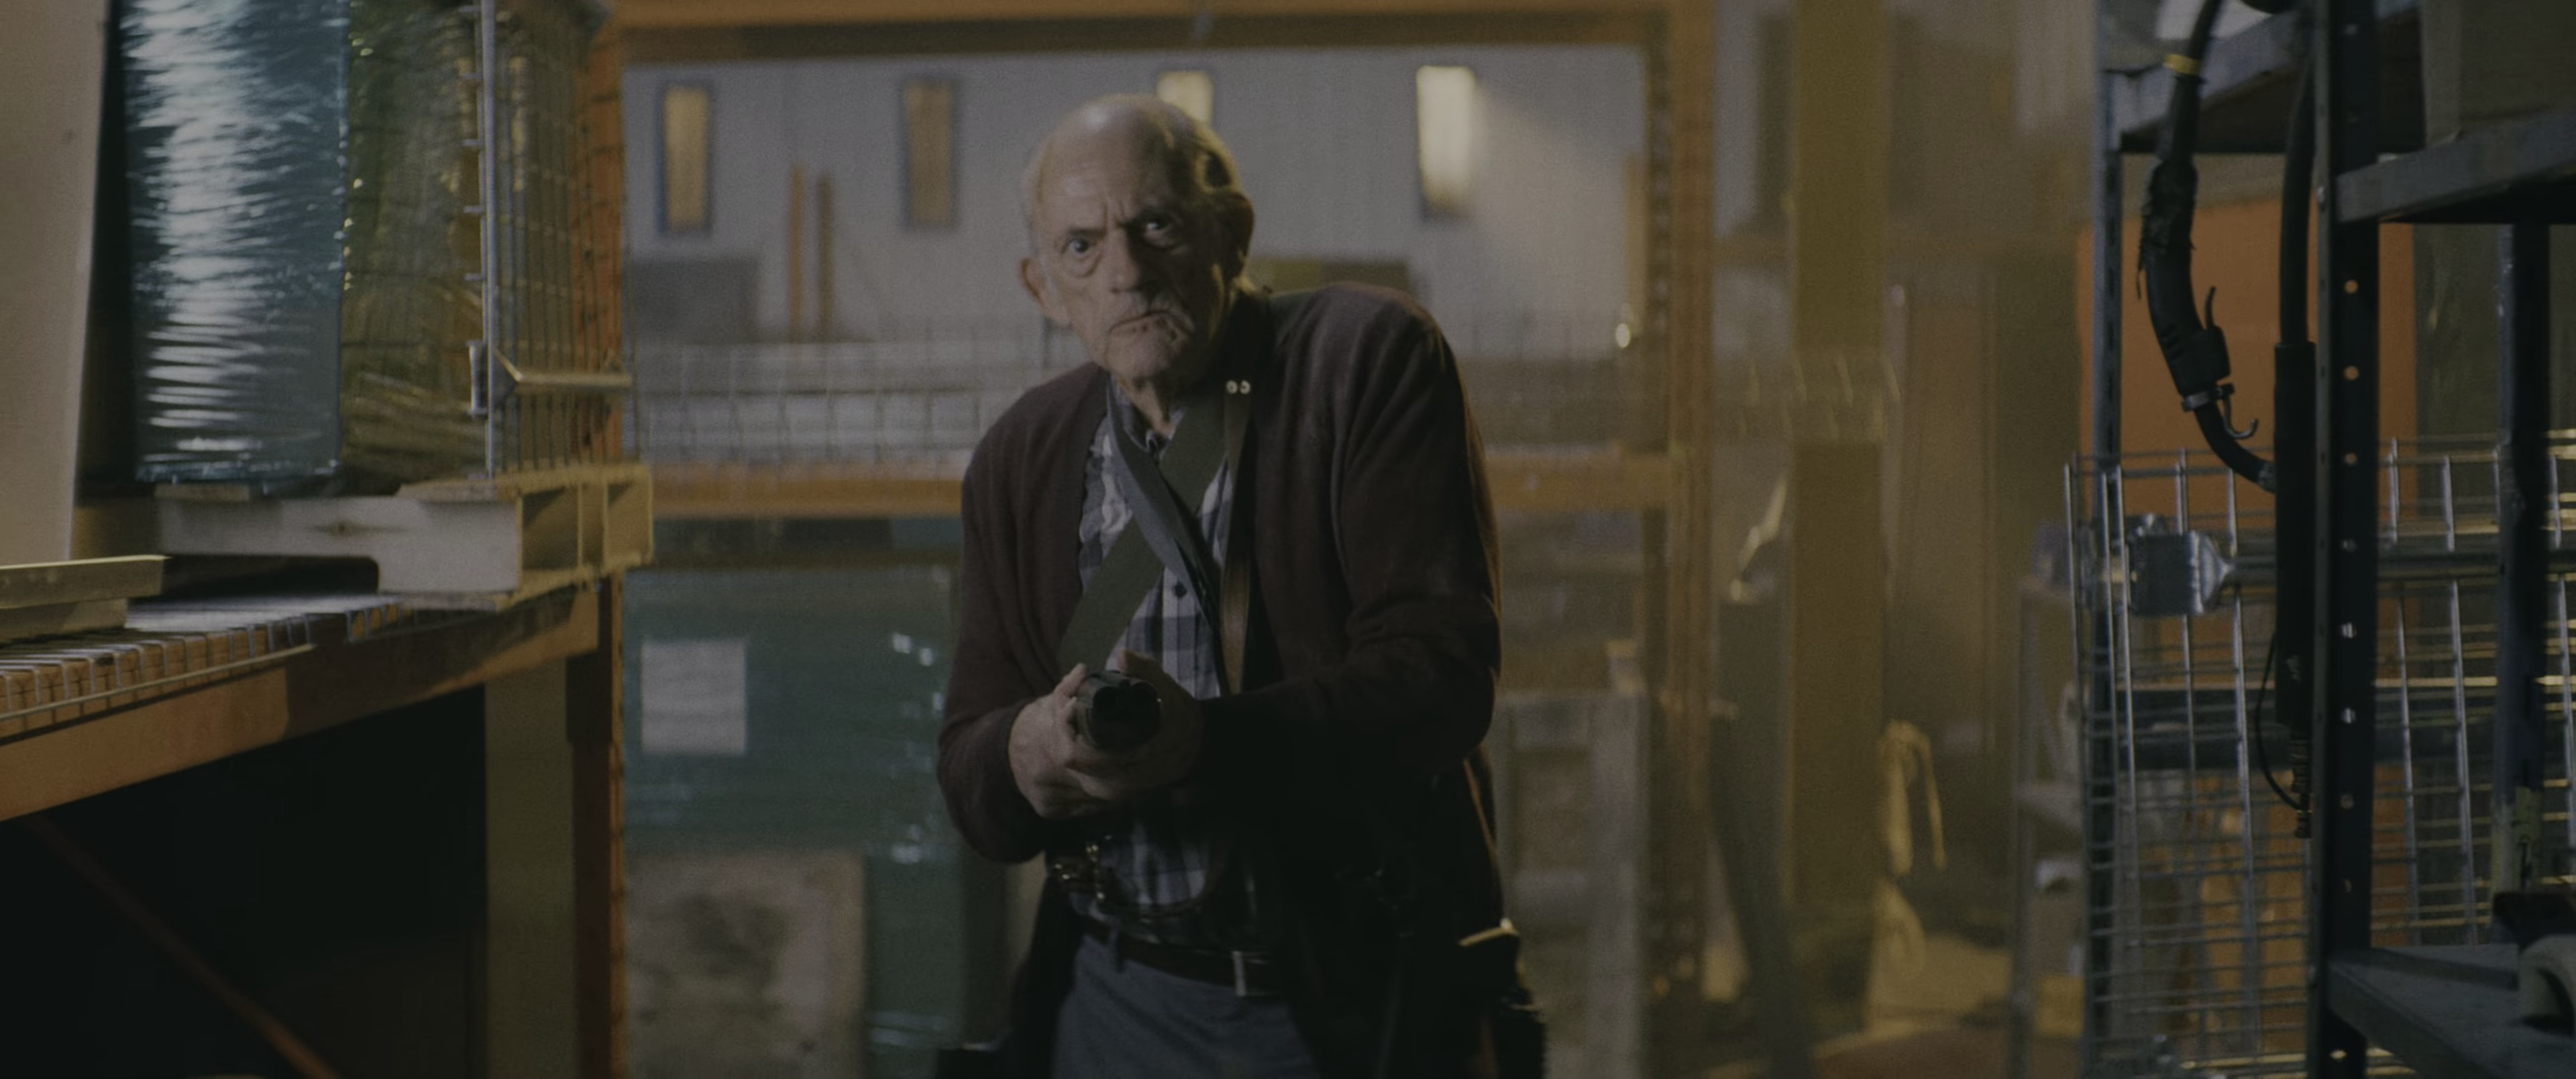gun: (1050, 662, 1173, 765)
p_w_gun: (912, 84, 1556, 1079)
